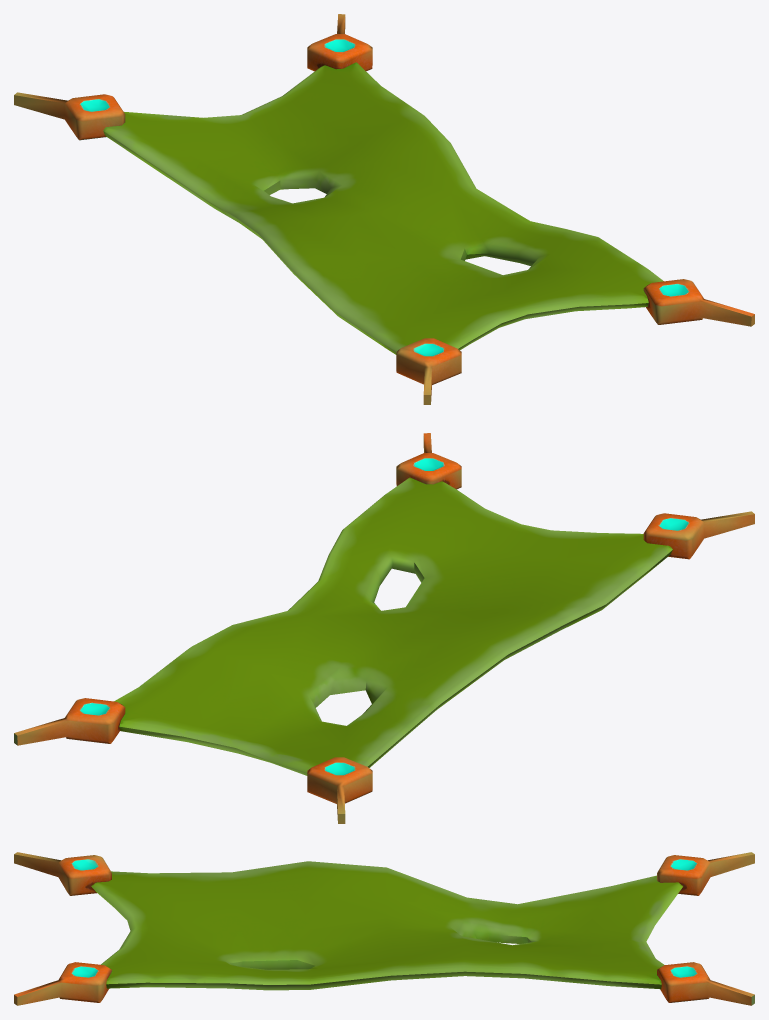
Rendered from SM_Stretcher_02.fbx.
3 views of the same model, one above another, from view 1: azimuth 30°, elevation 25°; view 2: azimuth 150°, elevation 25°; view 3: azimuth 270°, elevation 25° (orthographic). The views are drawn at different scales.
Parts seen in each view (by area): view 1: SM_Stretcher_02; view 2: SM_Stretcher_02; view 3: SM_Stretcher_02.
Part boxes in pixels (<box>): SM_Stretcher_02: <box>14,14,754,404</box>; SM_Stretcher_02: <box>14,433,754,823</box>; SM_Stretcher_02: <box>14,852,754,1005</box>.
Bounding box in the file's own units: 118 × 255 × 17.09.
1 material, 1 textured.
